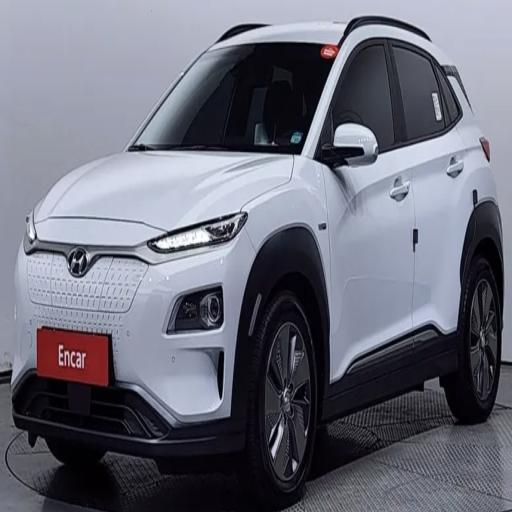normal: (14, 12, 512, 490)
